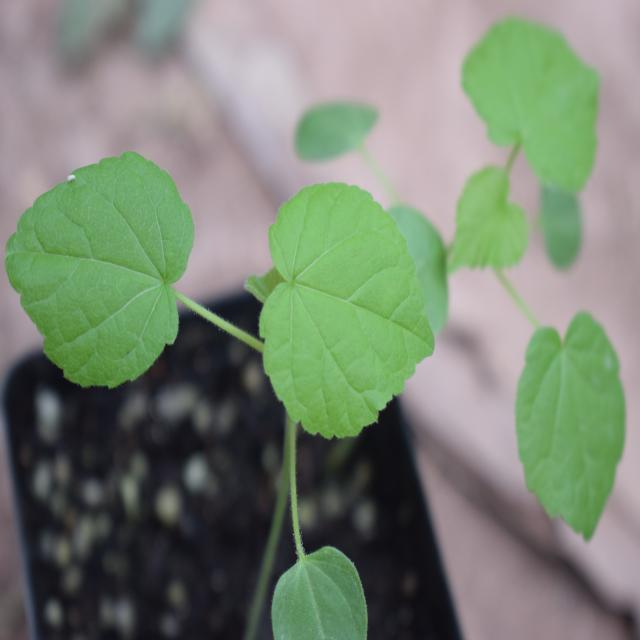abutilon theophrasti: (13, 114, 442, 569)
